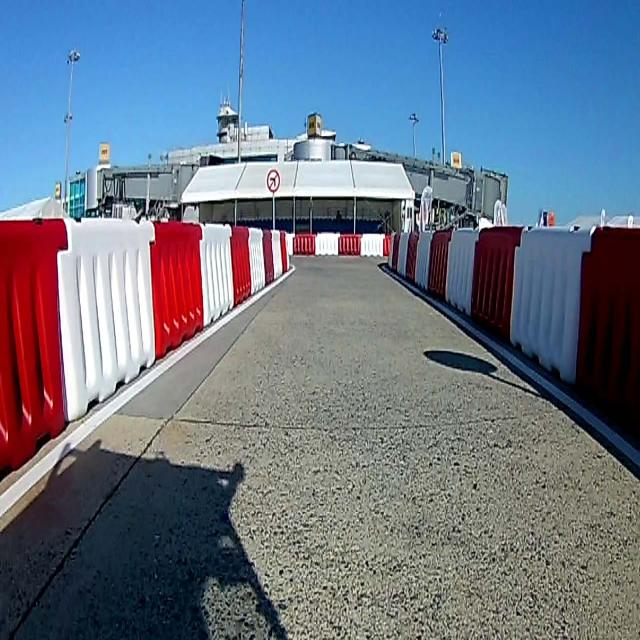soladonulmez: (265, 168, 281, 192)
